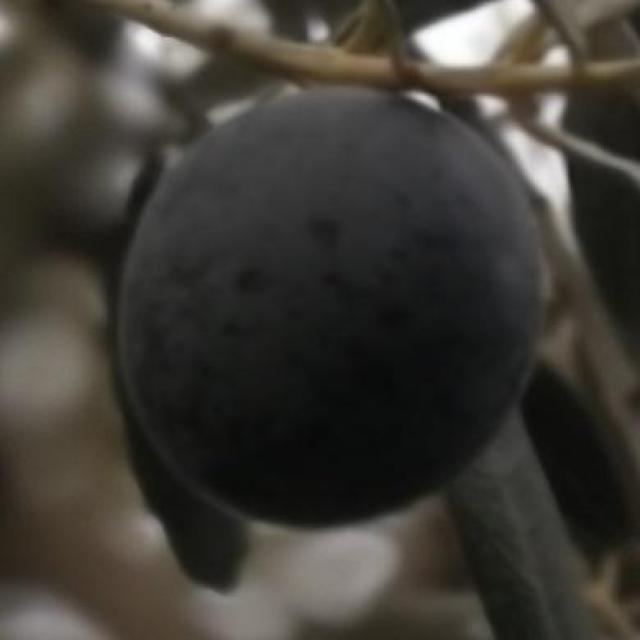Healthy: (125, 89, 543, 525)
